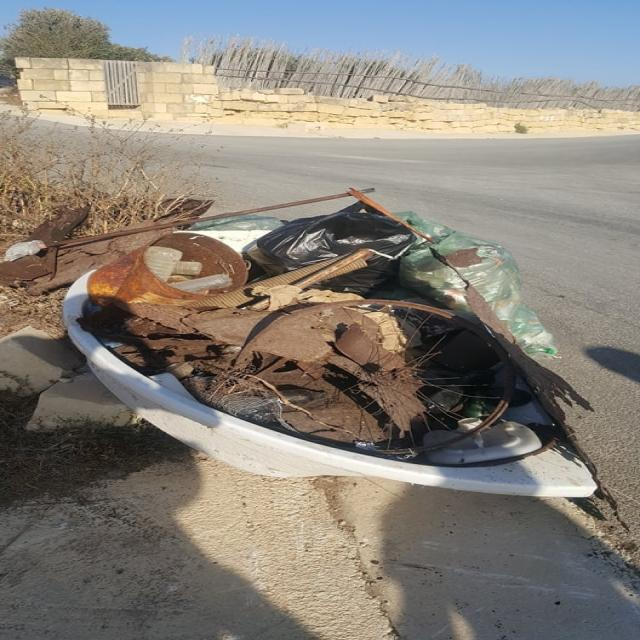Bottle: (144, 246, 183, 283), (167, 273, 233, 292), (170, 261, 202, 275)
Other litter: (0, 186, 549, 466), (63, 264, 620, 509), (172, 230, 273, 259)
Other plastic: (415, 415, 542, 461)
Plastic bag - wrapper: (390, 212, 556, 359), (245, 196, 415, 297), (182, 217, 281, 230)
